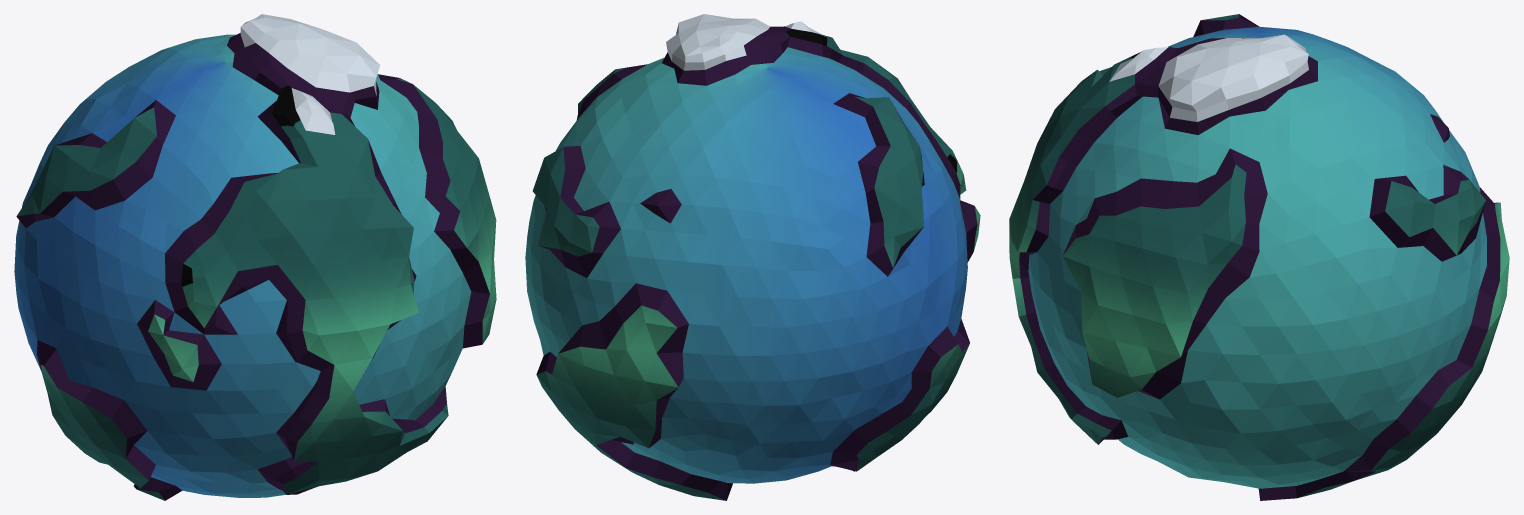
Rendered from Planet.glb.
3 views of the same model, side by side, from view 1: azimuth 30°, elevation 25°; view 2: azimuth 150°, elevation 25°; view 3: azimuth 270°, elevation 25° (orthographic). The views are drawn at different scales.
Visible parts, largest first — view 1: Icosphere.001; view 2: Icosphere.001; view 3: Icosphere.001.
Boxes of the visible parts, left/top/right/bottom form: Icosphere.001: left=14, top=14, right=496, bottom=500; Icosphere.001: left=525, top=14, right=980, bottom=500; Icosphere.001: left=1009, top=14, right=1509, bottom=500.
Bounding box in the file's own units: 9.93 × 10.37 × 10.32.
Materials: 4 (2 with a texture image).
